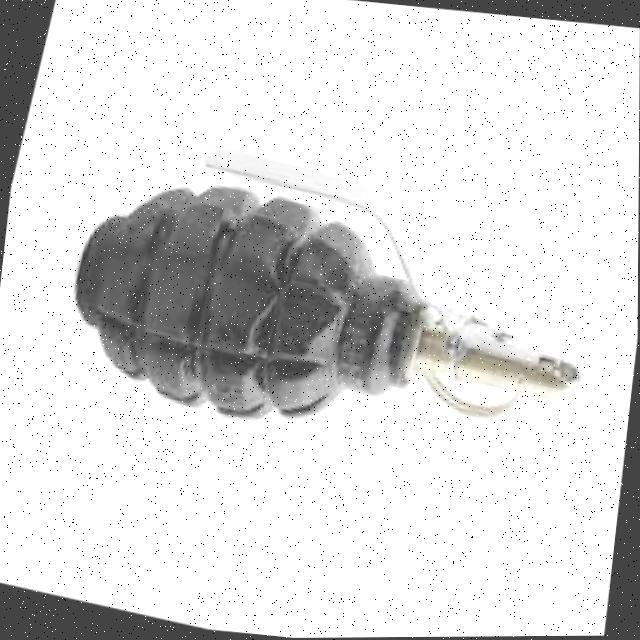grenade: (46, 115, 639, 512)
